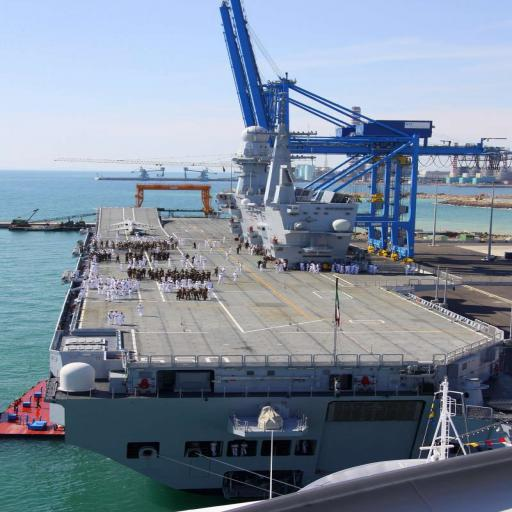Portanaves: (47, 110, 506, 496)
